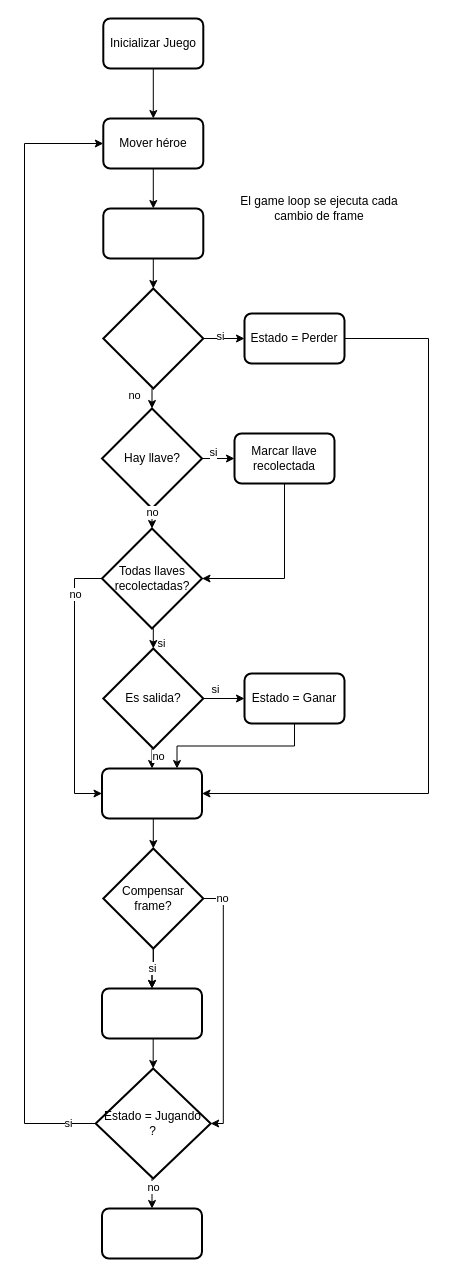
Image size: 454x1276. Some labels were removed from this diagram. The shapes that lost their labels are listed below. From the top down, each one's centre as x and y in pixels, then its label:
[153,233]: Mover perseguidor
[153,338]: Alcanzado?
[151,793]: Renderizar (UI)
[151,1013]: Dormir hilo principal
[151,1233]: Terminar juego
